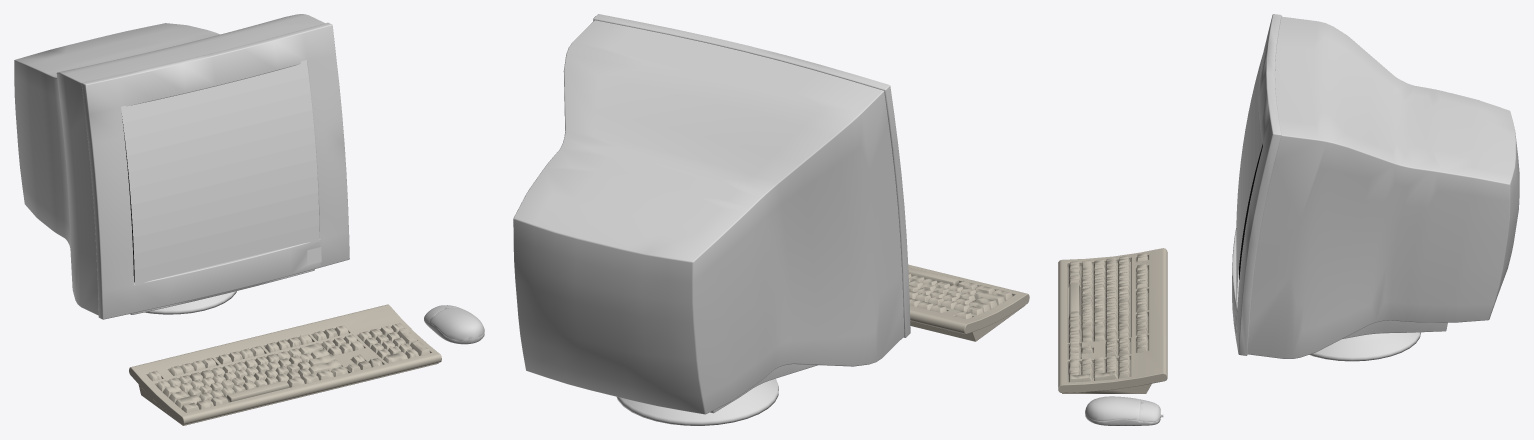
Rendered from Monitor-v2.glb.
3 views of the same model, side by side, from view 1: azimuth 30°, elevation 25°; view 2: azimuth 150°, elevation 25°; view 3: azimuth 270°, elevation 25° (orthographic). The views are drawn at different scales.
Visible parts, largest first — view 1: Keyboard_Plane.014, Button; view 2: Keyboard_Plane.014; view 3: Keyboard_Plane.014, Button.
Boxes of the visible parts, <box> form: Keyboard_Plane.014: <box>14,14,484,425</box>; Button: <box>121,60,321,286</box>; Keyboard_Plane.014: <box>513,14,1029,425</box>; Keyboard_Plane.014: <box>1058,14,1519,425</box>; Button: <box>1234,54,1262,331</box>.
Bounding box in the file's own units: 3.04 × 2.36 × 3.77.
